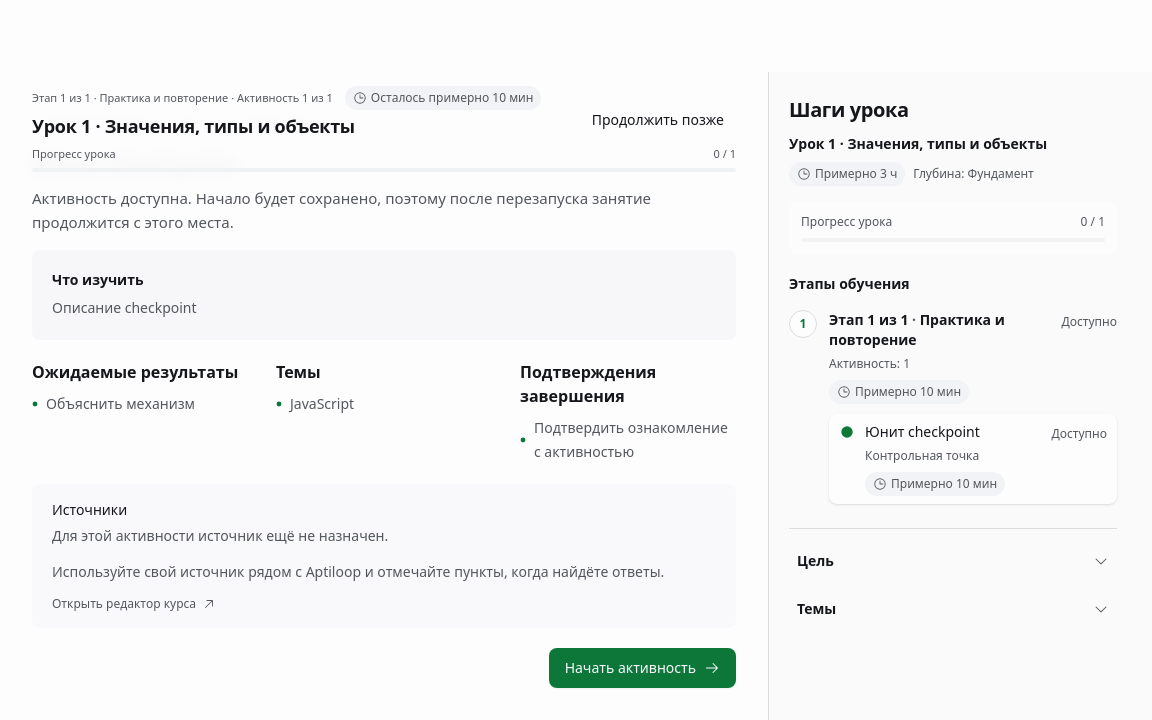
Test: guided versioned session › actively refreshes the learning path after completing a session
(page scrolled)
Click the button "Начать активность" at (642, 668), box [549,648,736,688]
(page scrolled)
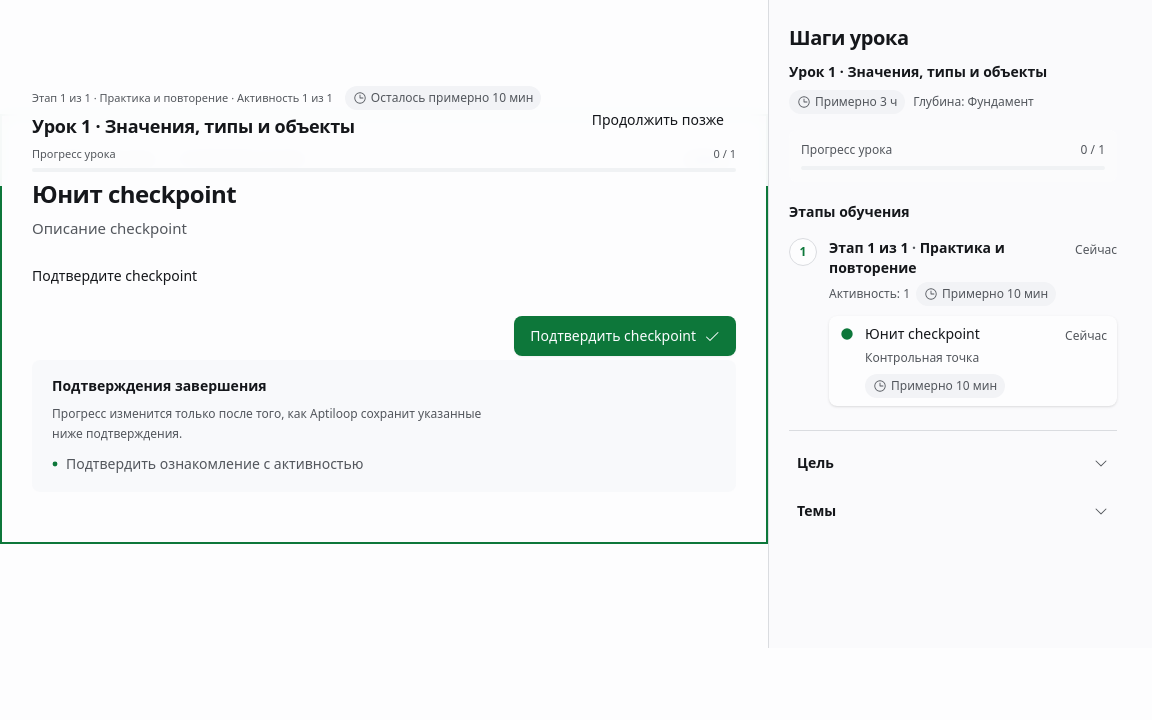
Click the button "Подтвердить checkpoint" at (625, 336), box [514,316,736,356]
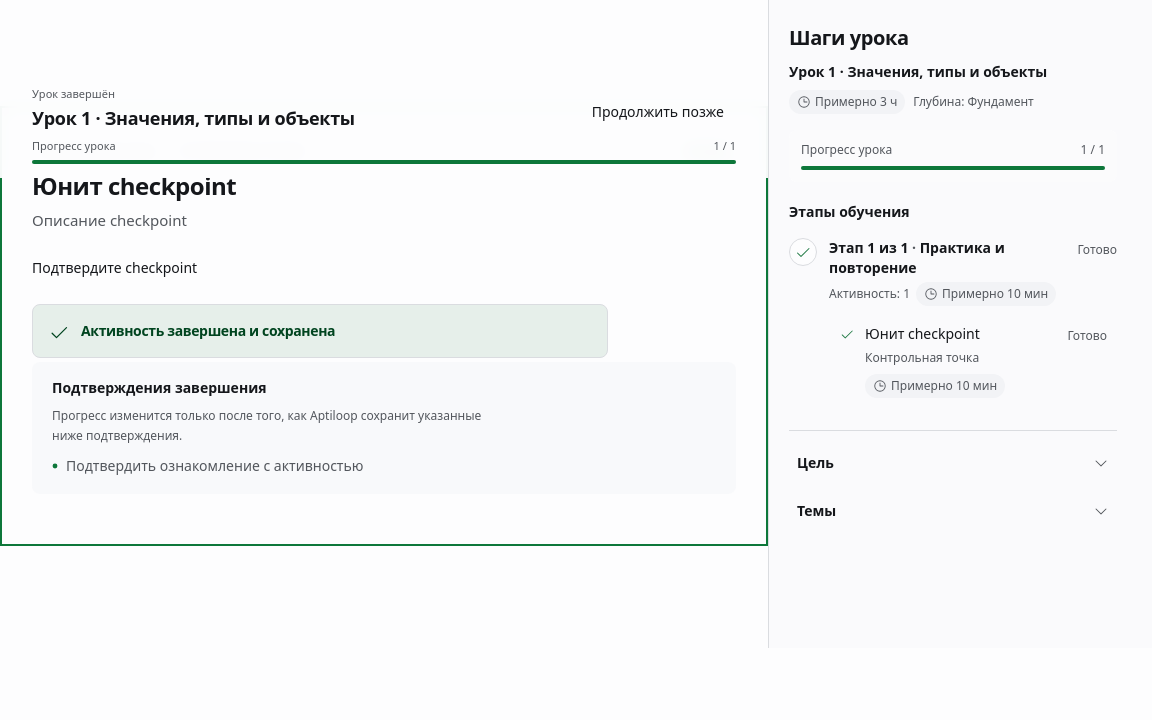
Result: the text "Урок завершён" is shown at [32,86,115,102]
